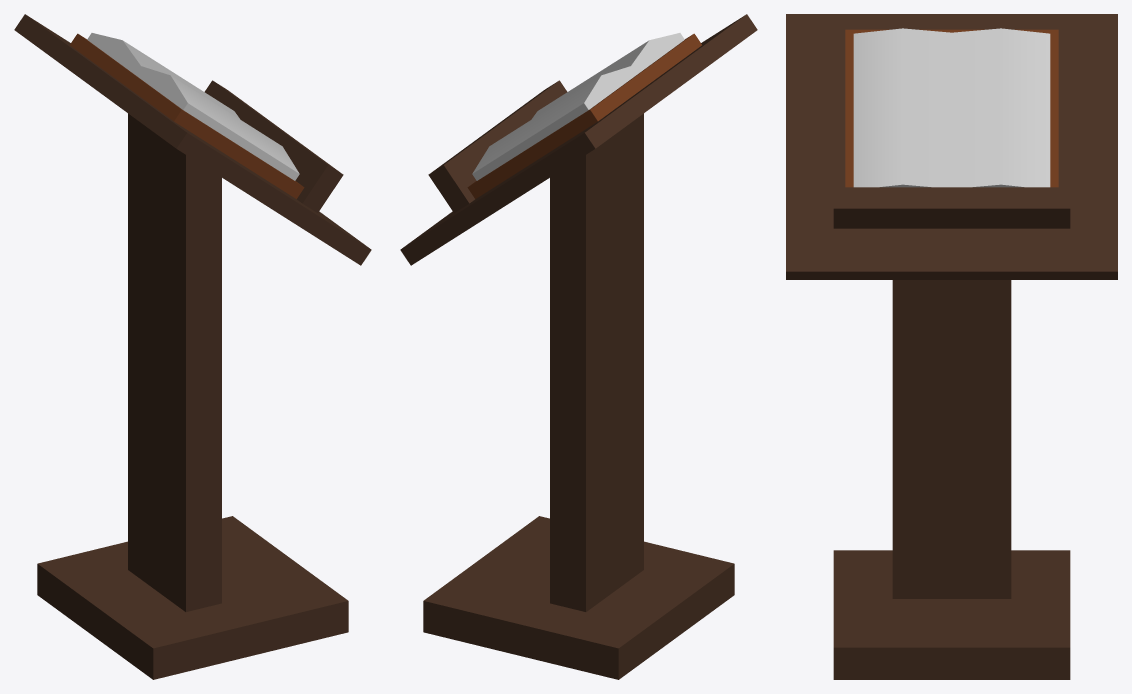
Rendered from BookStand.fbx.
3 views of the same model, side by side, from view 1: azimuth 30°, elevation 25°; view 2: azimuth 150°, elevation 25°; view 3: azimuth 270°, elevation 25° (orthographic). The views are drawn at different scales.
Visible parts, largest first — view 1: Null_1; view 2: Null_1; view 3: Null_1.
Boxes of the visible parts, box(x1,y1,x2,y2) form: Null_1: box(14, 14, 371, 679); Null_1: box(400, 14, 757, 679); Null_1: box(786, 14, 1117, 679).
Size of the model in its own units: 48.64 by 135 by 70.
